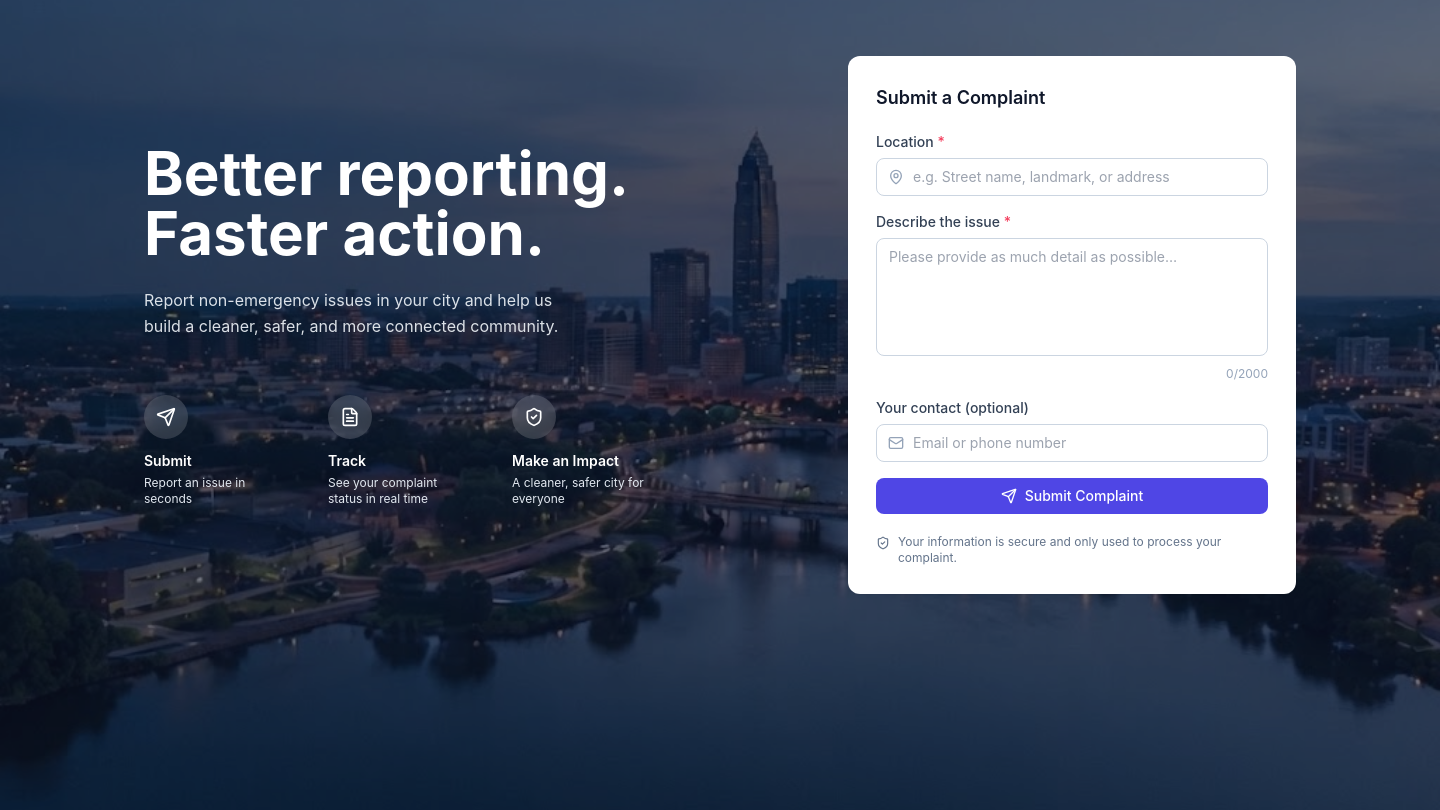
Test: Submit view › surfaces server error detail verbatim
The image size is (1440, 810).
Type "Burst water pipe on Street 99 flooding the road" into the text box with placeholder "Please provide as much detail as possible…".
click(1072, 297); type("Burst water pipe on Street 99 flooding the road")  # box x1=876 y1=238 x2=1268 y2=356
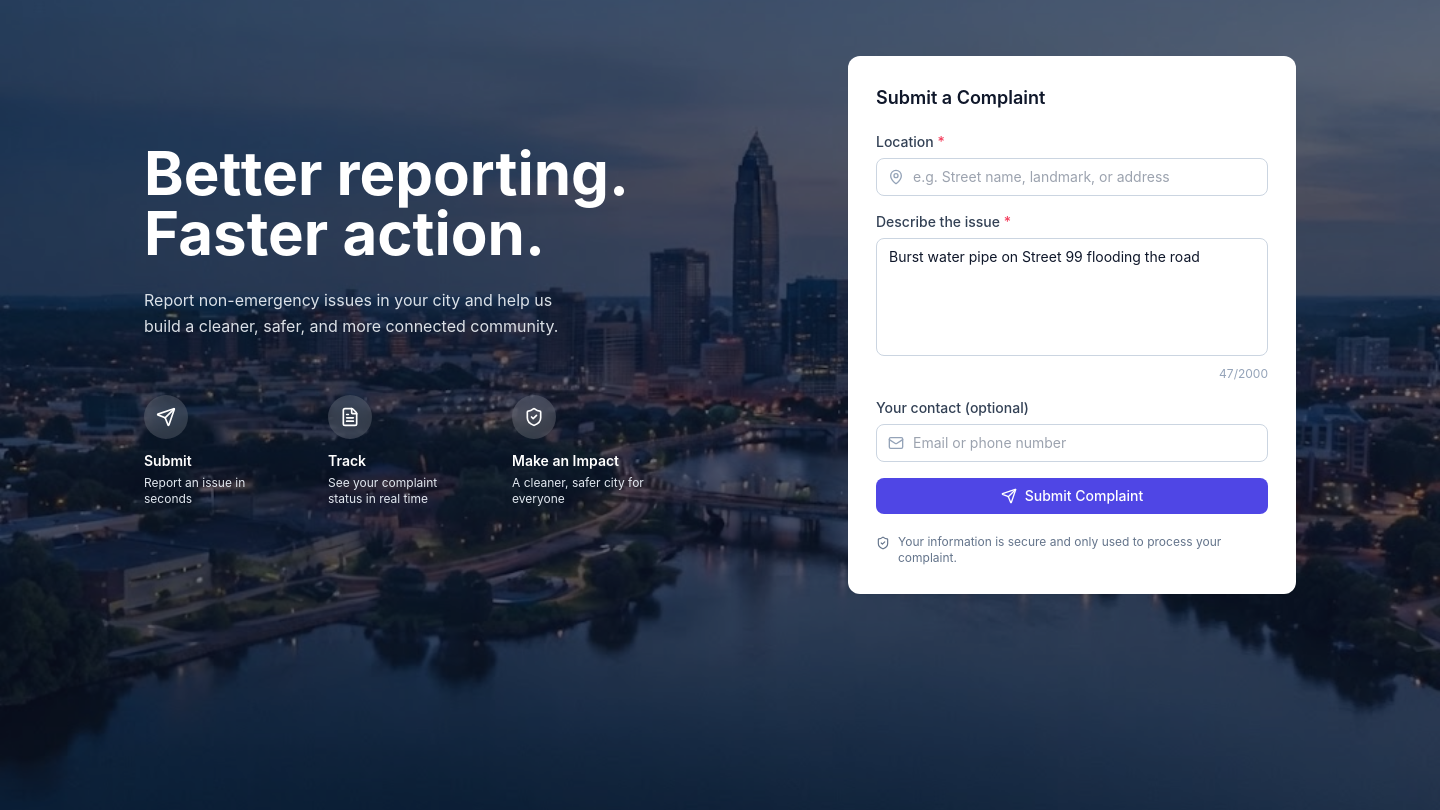
Type "Street 99" into the field with placeholder "e.g. Street name, landmark, or address".
click(1072, 177); type("Street 99")  # box x1=876 y1=158 x2=1268 y2=196
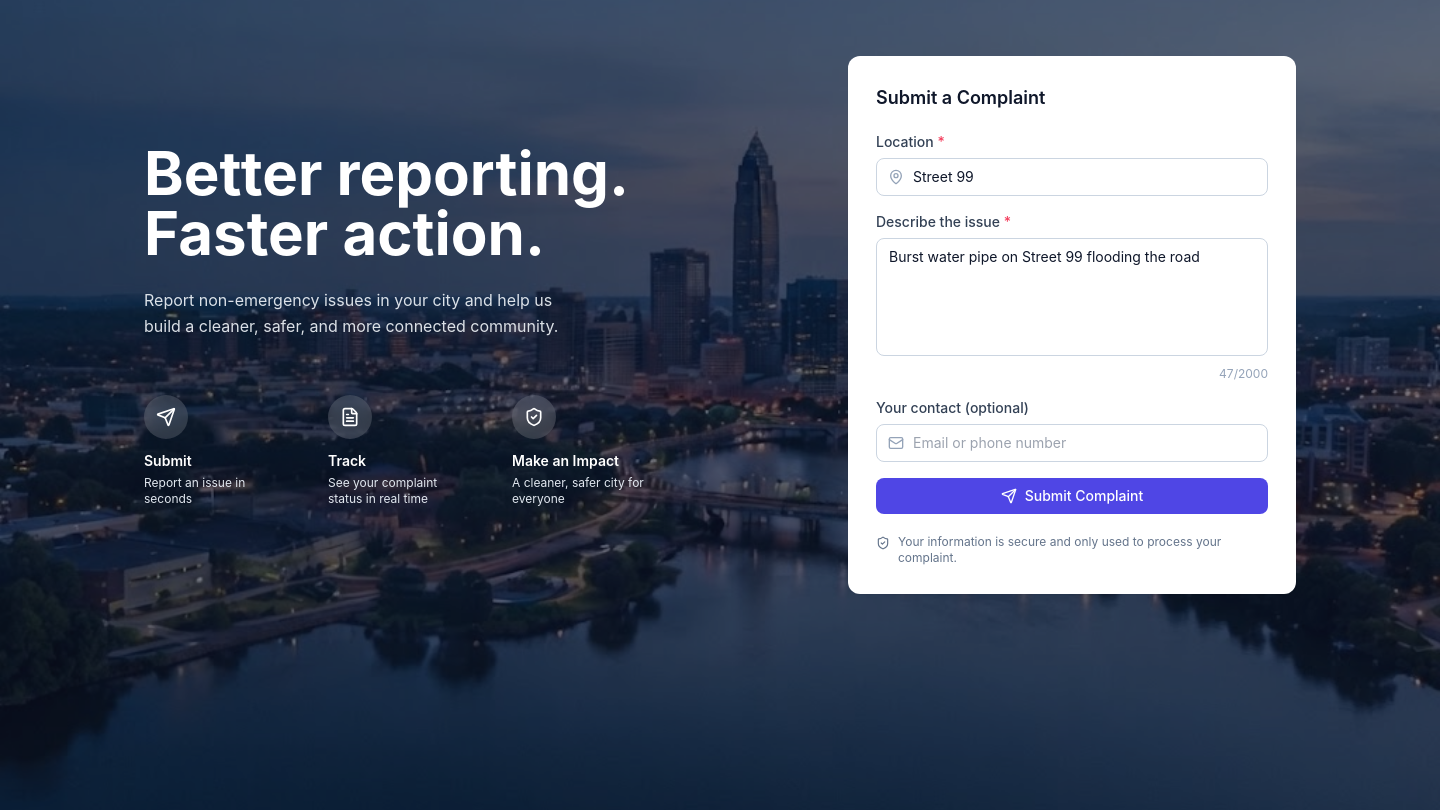
Click the button "Submit Complaint".
click(1072, 496)  # box x1=876 y1=478 x2=1268 y2=514
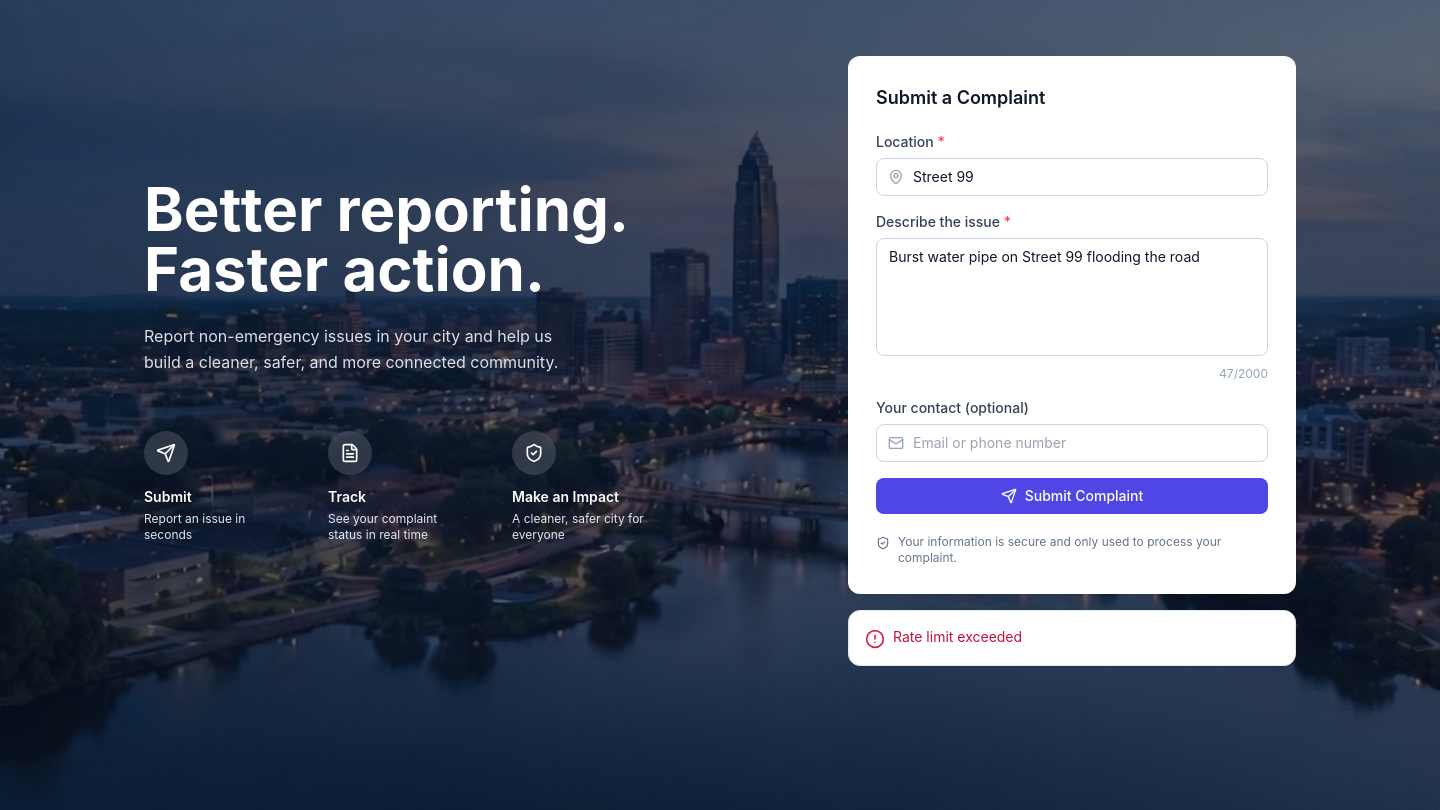
Now the text "Rate limit exceeded" is shown, box x1=893 y1=627 x2=1022 y2=647
